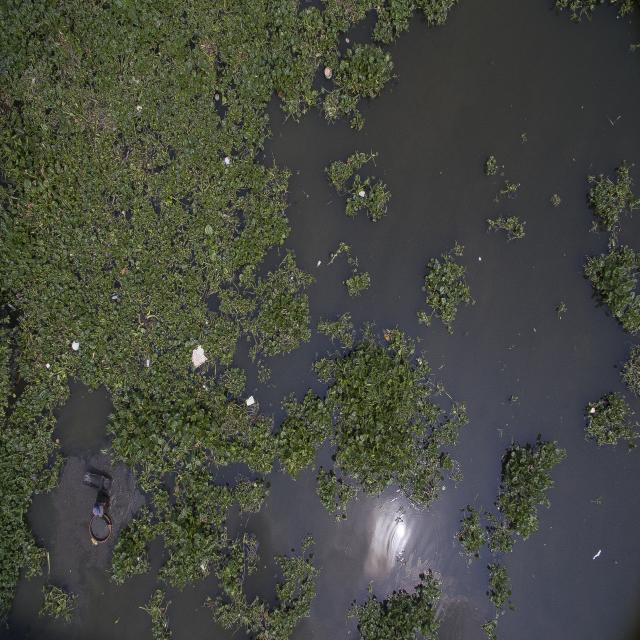plastic: (184, 344, 219, 384), (321, 58, 336, 86), (68, 333, 84, 359), (245, 391, 258, 413)
